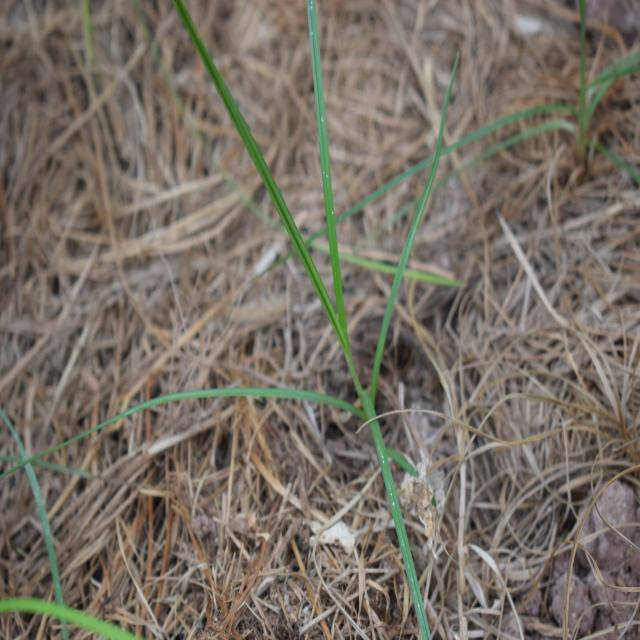sedge: (115, 29, 499, 592)
